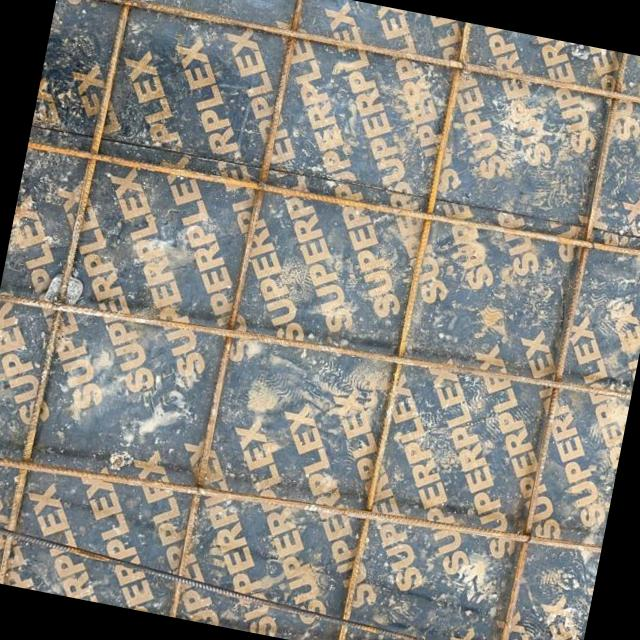ribbed bar: (0, 422, 601, 587), (0, 268, 631, 424), (27, 130, 640, 274), (332, 20, 474, 640), (165, 0, 307, 619), (488, 50, 629, 640), (0, 0, 141, 586), (0, 513, 584, 640), (57, 0, 640, 117)
